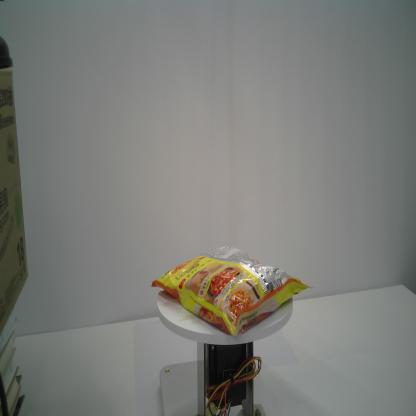Instant Noodles: (150, 244, 314, 337)
